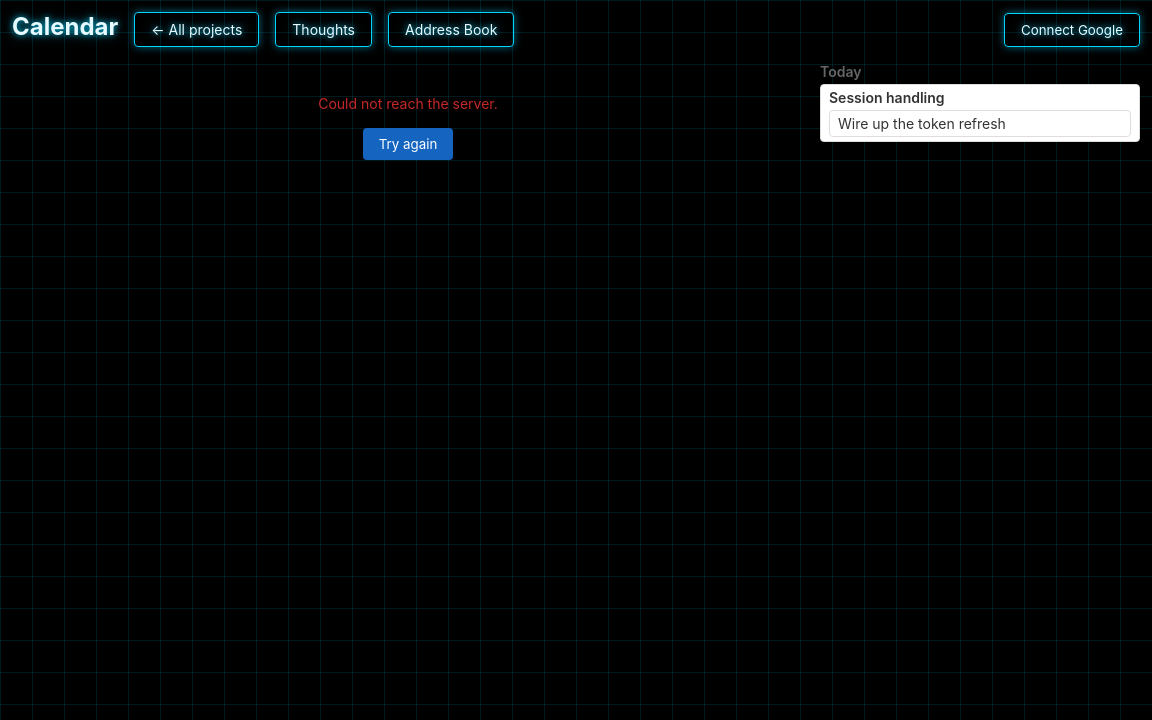
CalendarPage › a failed calendar leaves the pool listed but with no day to claim
Expected: the text "Could not reach the server." is shown, [318,95,498,112]
Expected: the text "Wire up the token refresh" is shown, [838,115,1006,132]
Click the button "Try again" at (408, 144), box [363,128,453,160]
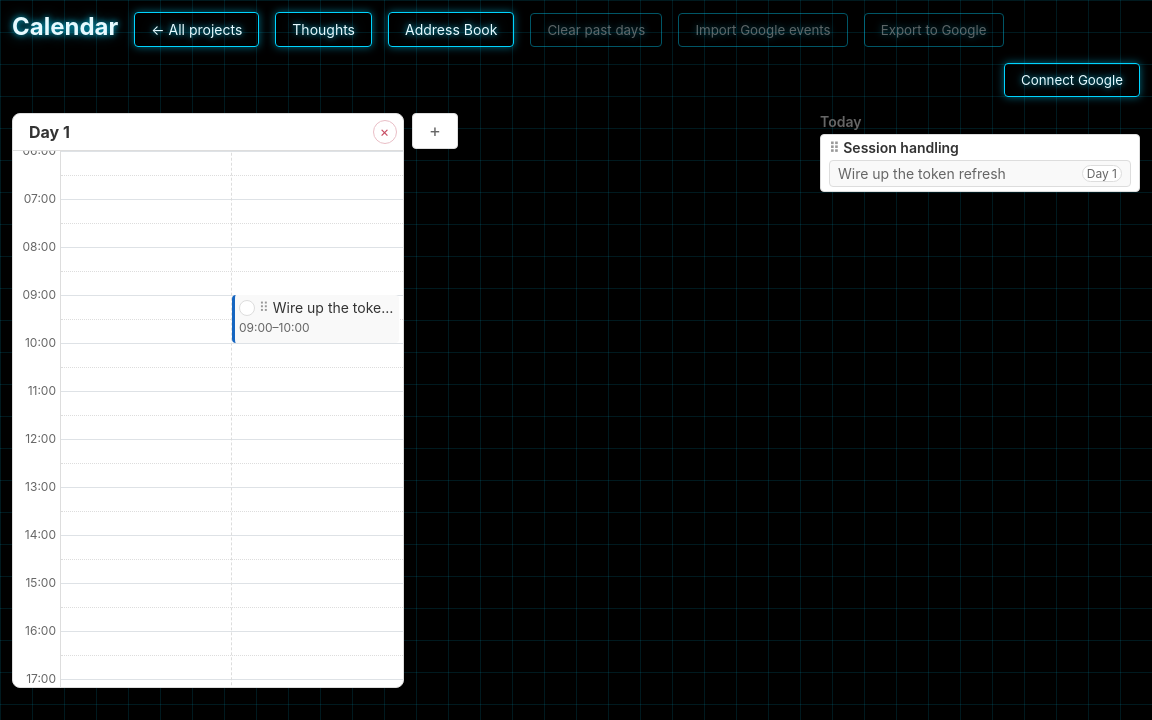
Expected: the text "Day 1" is shown, [1082,165,1122,182]
